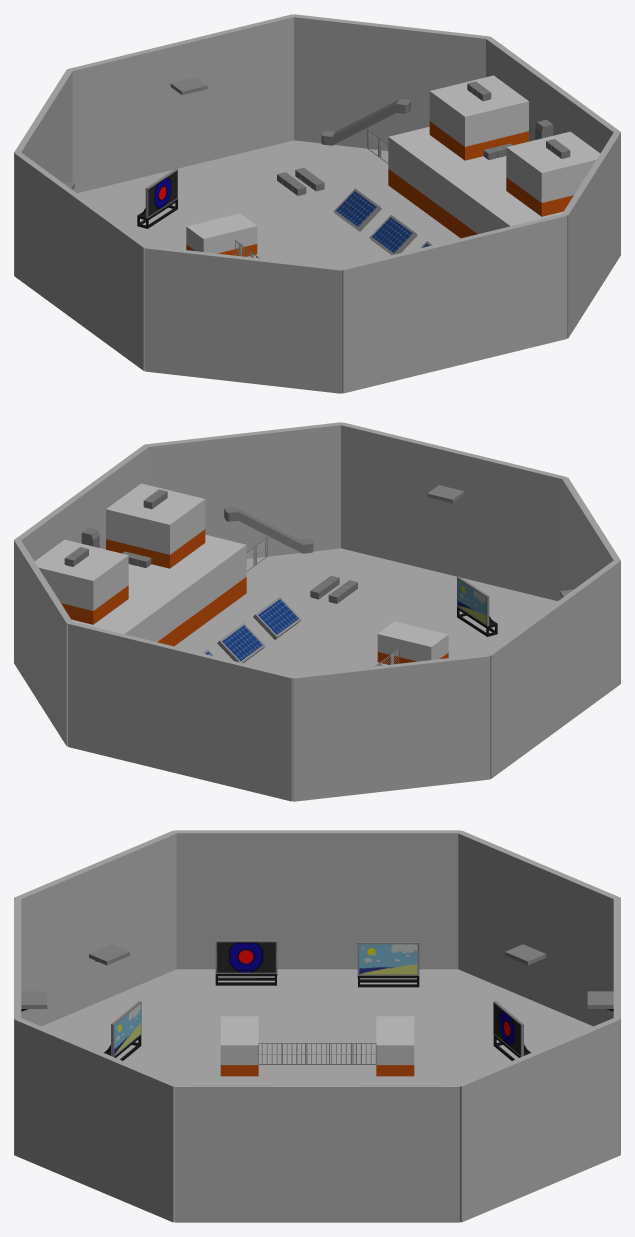
Rendered from Level_2.fbx.
3 views of the same model, one above another, from view 1: azimuth 30°, elevation 25°; view 2: azimuth 150°, elevation 25°; view 3: azimuth 270°, elevation 25° (orthographic). The views are drawn at different scales.
Visible parts, largest first — view 1: Wall.005, Wall.004, Wall.011, Floor.001, Wall.008, Wall.007, Big_room, Wall.010, Room.002, Room.003, Wall.012, Wall.009 (+5 smaller); view 2: Wall.004, Wall.005, Wall.009, Floor.001, Wall.010, Wall.007, Big_room, Wall.008, Room.003, Room.002, Wall.012, Wall.011 (+5 smaller); view 3: Wall.012, Floor.001, Wall.007, Wall.008, Wall.010, Wall.009, Wall.011, Ads.001, Ads, Room.004, Room.005, Net.012 (+6 smaller).
Part boxes in pixels (bbox=[...]): Wall.005: bbox=[340, 213, 566, 393]; Wall.004: bbox=[68, 14, 294, 192]; Wall.011: bbox=[144, 245, 342, 393]; Floor.001: bbox=[77, 140, 460, 267]; Wall.008: bbox=[292, 14, 490, 150]; Wall.007: bbox=[14, 152, 148, 370]; Big_room: bbox=[388, 126, 562, 238]; Wall.010: bbox=[562, 131, 620, 338]; Room.002: bbox=[429, 75, 528, 160]; Room.003: bbox=[506, 131, 600, 216]; Wall.012: bbox=[486, 37, 620, 153]; Wall.009: bbox=[14, 69, 72, 275]; Wall.004: bbox=[68, 621, 294, 801]; Wall.005: bbox=[340, 422, 566, 600]; Wall.009: bbox=[292, 653, 490, 801]; Floor.001: bbox=[174, 548, 557, 675]; Wall.010: bbox=[144, 422, 342, 558]; Wall.007: bbox=[486, 560, 620, 778]; Big_room: bbox=[72, 534, 246, 646]; Wall.008: bbox=[14, 539, 72, 746]; Room.003: bbox=[106, 483, 205, 568]; Room.002: bbox=[34, 539, 128, 624]; Wall.012: bbox=[14, 445, 148, 561]; Wall.011: bbox=[562, 477, 620, 683]; Wall.012: bbox=[175, 1083, 459, 1222]; Floor.001: bbox=[41, 969, 593, 1083]; Wall.007: bbox=[175, 830, 459, 969]; Wall.008: bbox=[456, 1018, 620, 1222]; Wall.010: bbox=[14, 1018, 178, 1222]; Wall.009: bbox=[457, 830, 620, 1026]; Wall.011: bbox=[14, 830, 176, 1026]; Ads.001: bbox=[215, 940, 277, 985]; Ads: bbox=[357, 942, 419, 987]; Room.004: bbox=[376, 1016, 414, 1076]; Room.005: bbox=[220, 1016, 258, 1076]; Net.012: bbox=[258, 1043, 376, 1064].
Size of the model in its own units: 8100 by 2049 by 8100.
12 materials, 10 textured.
